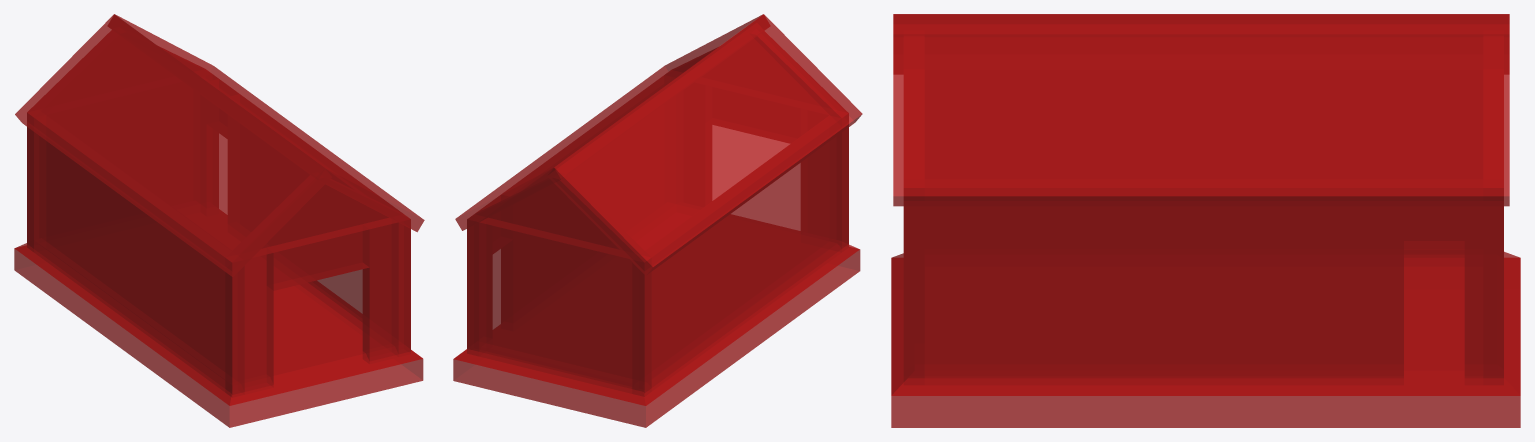
The model's file is SM_Bld_SingleGarage_01_Collision.fbx.
3 views of the same model, side by side, from view 1: azimuth 30°, elevation 25°; view 2: azimuth 150°, elevation 25°; view 3: azimuth 270°, elevation 25° (orthographic). The views are drawn at different scales.
Parts seen in each view (by area): view 1: SM_Bld_SingleGarage_01_Collision; view 2: SM_Bld_SingleGarage_01_Collision; view 3: SM_Bld_SingleGarage_01_Collision.
Boxes of the visible parts, x1,y1,x2,y2 form: SM_Bld_SingleGarage_01_Collision: (14, 14, 424, 427); SM_Bld_SingleGarage_01_Collision: (453, 14, 862, 427); SM_Bld_SingleGarage_01_Collision: (891, 14, 1520, 427).
Size of the model in its own units: 562 by 635 by 1053.
